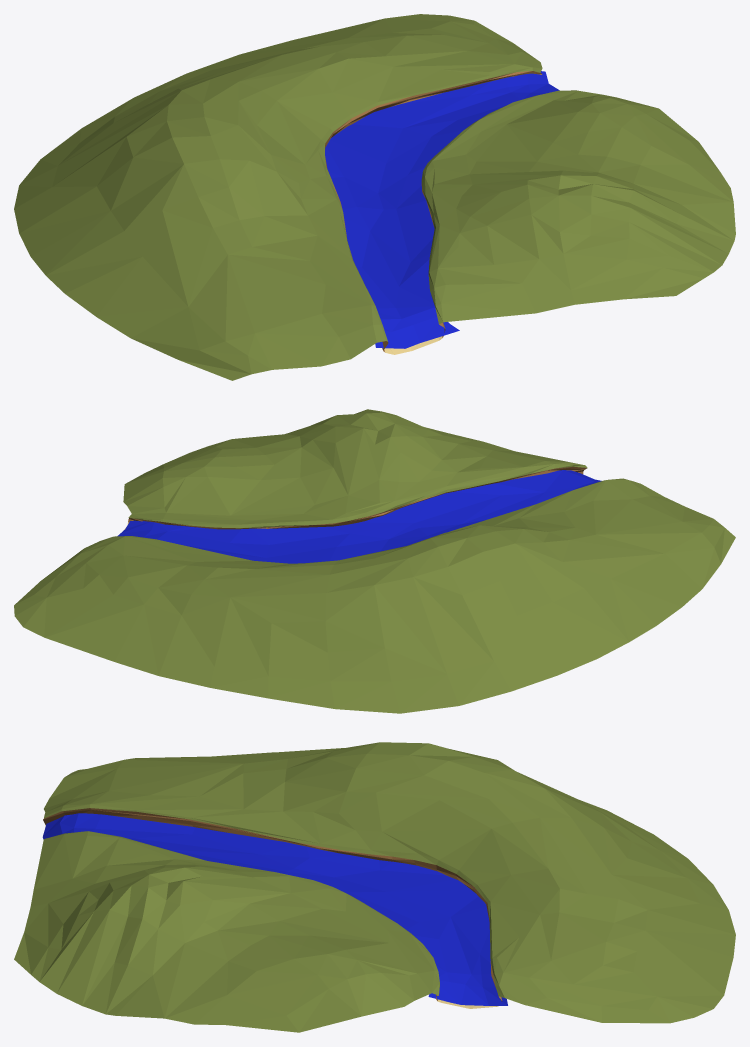
Rendered from Terrain_River_Bend-02.FBX.
3 views of the same model, one above another, from view 1: azimuth 30°, elevation 25°; view 2: azimuth 150°, elevation 25°; view 3: azimuth 270°, elevation 25° (orthographic). The views are drawn at different scales.
Visible parts, largest first — view 1: Terrain_River_Bend-02; view 2: Terrain_River_Bend-02; view 3: Terrain_River_Bend-02.
Boxes of the visible parts, x1=… form: Terrain_River_Bend-02: x1=14, y1=14, x2=735, y2=380; Terrain_River_Bend-02: x1=14, y1=409, x2=735, y2=713; Terrain_River_Bend-02: x1=14, y1=742, x2=735, y2=1032.
Bounding box in the file's own units: 8186 × 1321 × 8429.
Materials: 2 (1 with a texture image).
